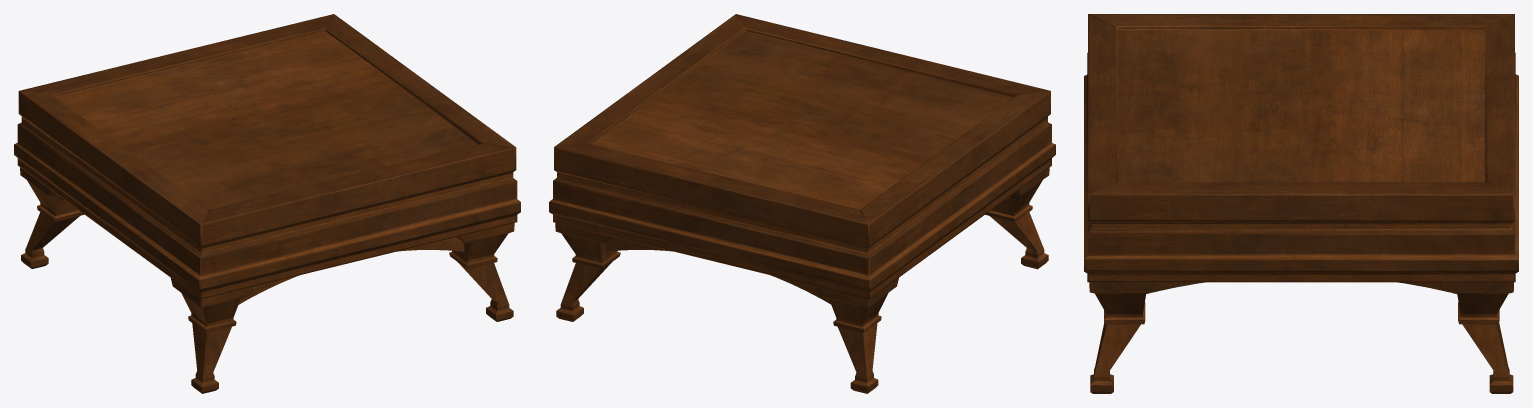
Rendered from table04.obj.
The picture shows the model from 3 angles, left to right: view 1: azimuth 30°, elevation 25°; view 2: azimuth 150°, elevation 25°; view 3: azimuth 270°, elevation 25°; orthographic projection. The views are drawn at different scales.
Visible parts, largest first — view 1: mesh; view 2: mesh; view 3: mesh.
Part boxes in pixels (x1=…): mesh: x1=14, y1=14, x2=520, y2=393; mesh: x1=549, y1=14, x2=1055, y2=393; mesh: x1=1084, y1=14, x2=1518, y2=393.
Bounding box in the file's own units: 66.53 × 34.06 × 66.53.
Materials: 1 (1 with a texture image).
